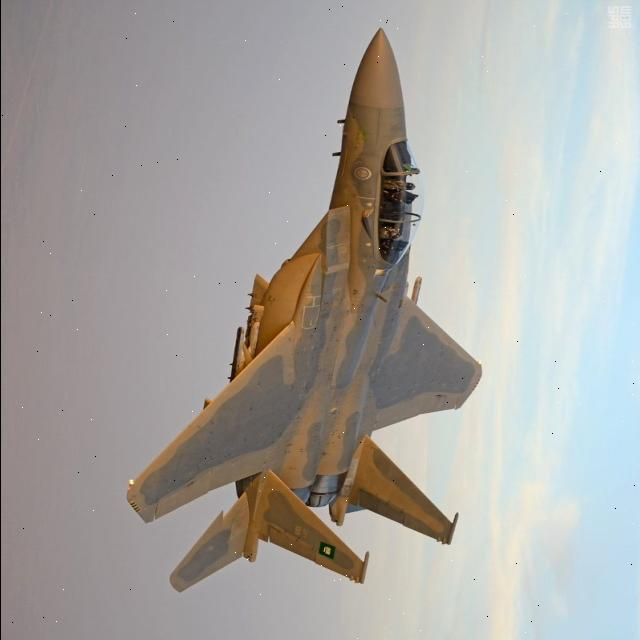F15: (92, 15, 506, 640)
